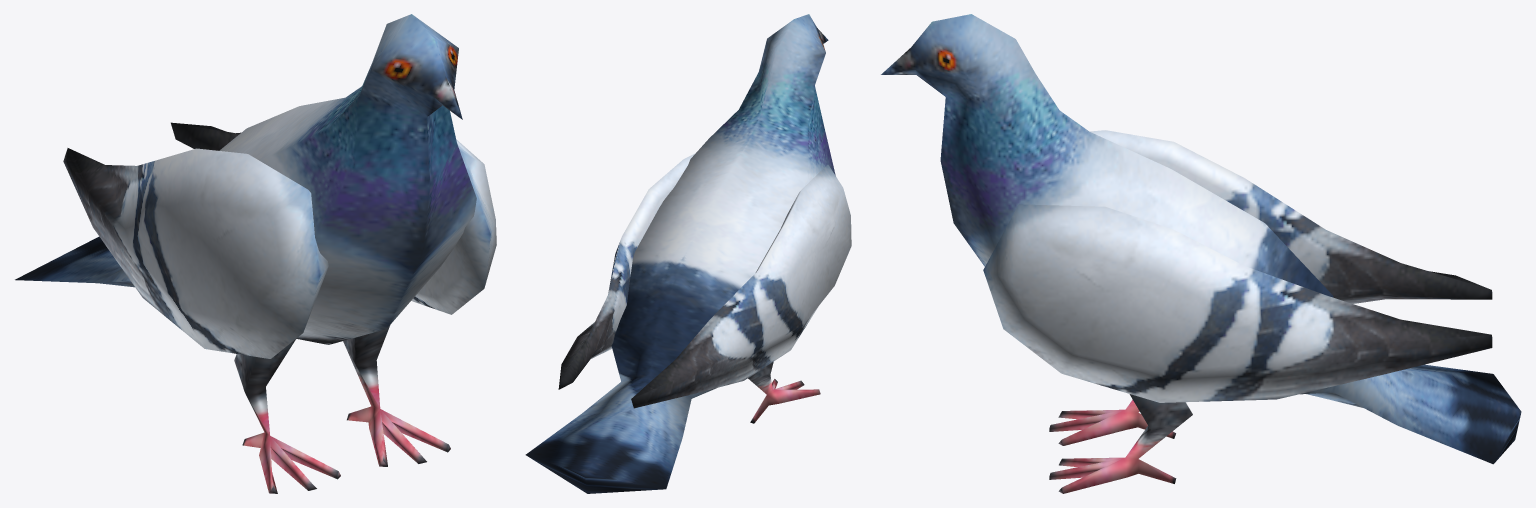
File: pigeon.fbx
3 views of the same model, side by side, from view 1: azimuth 30°, elevation 25°; view 2: azimuth 150°, elevation 25°; view 3: azimuth 270°, elevation 25° (orthographic). The views are drawn at different scales.
Parts seen in each view (by area): view 1: Plane.001; view 2: Plane.001; view 3: Plane.001.
Part boxes in pixels (x1,y1,x2,y2): Plane.001: (15,14,496,493); Plane.001: (525,14,851,493); Plane.001: (881,14,1521,493).
Size of the model in its own units: 3.71 by 7.26 by 9.46.
1 material, 1 textured.
